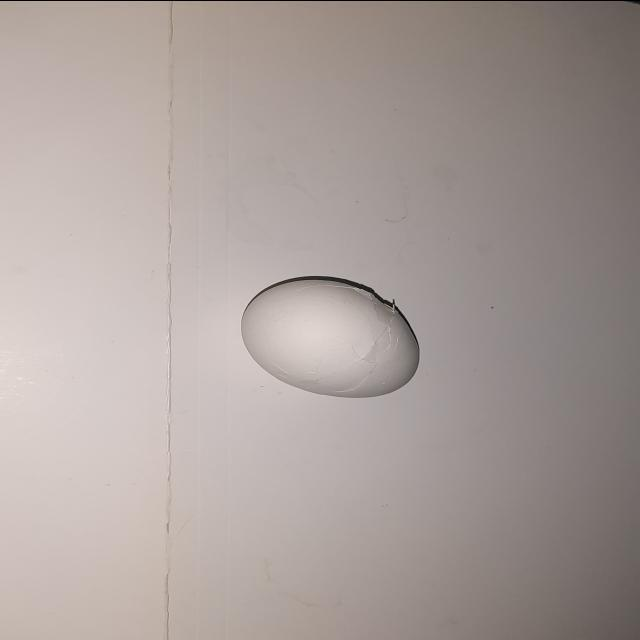egg shell: (234, 272, 430, 401)
